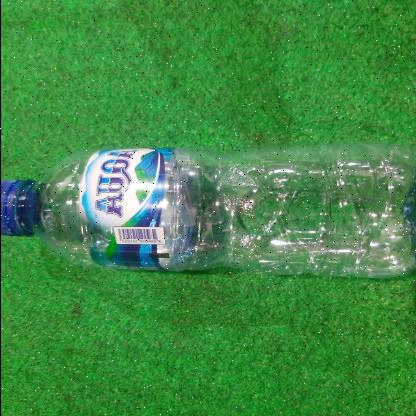Plastic Bottle: (0, 147, 416, 283)
